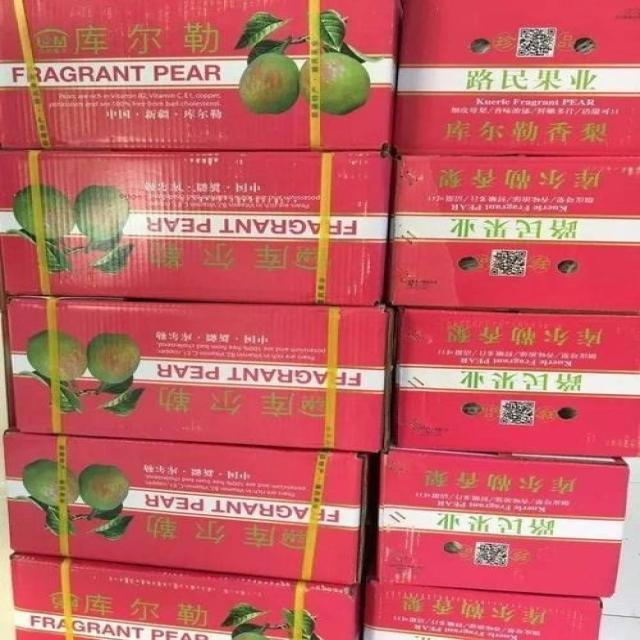box: (4, 296, 391, 453), (0, 1, 399, 152), (0, 152, 391, 304), (2, 433, 366, 581), (385, 155, 639, 313), (393, 0, 639, 156), (376, 449, 629, 595), (392, 309, 639, 456), (7, 554, 361, 639), (363, 580, 603, 639)
